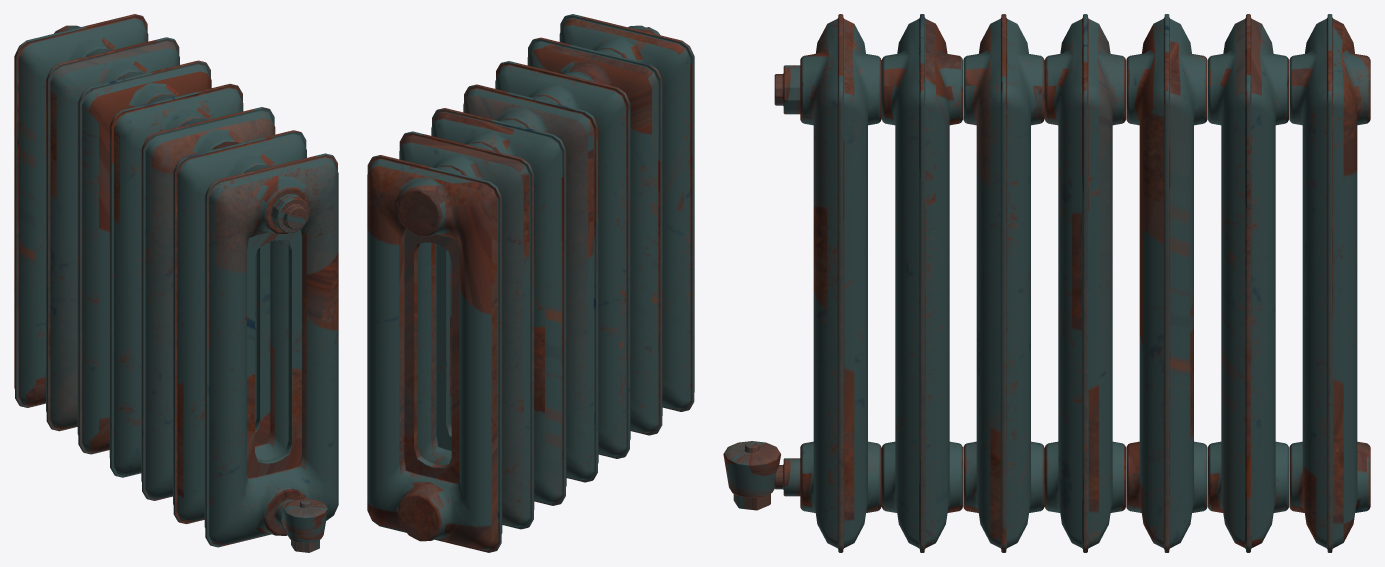
The model's file is radiateur.fbx.
3 renders of one model, left to right at view 1: azimuth 30°, elevation 25°; view 2: azimuth 150°, elevation 25°; view 3: azimuth 270°, elevation 25°, orthographic. The views are drawn at different scales.
Parts seen in each view (by area): view 1: Line002; view 2: Line002; view 3: Line002.
Part boxes in pixels (x1,y1,x2,y2): Line002: (14,14,338,552); Line002: (367,14,694,552); Line002: (723,14,1370,552).
Size of the model in its own units: 28.54 by 76.02 by 94.65.
